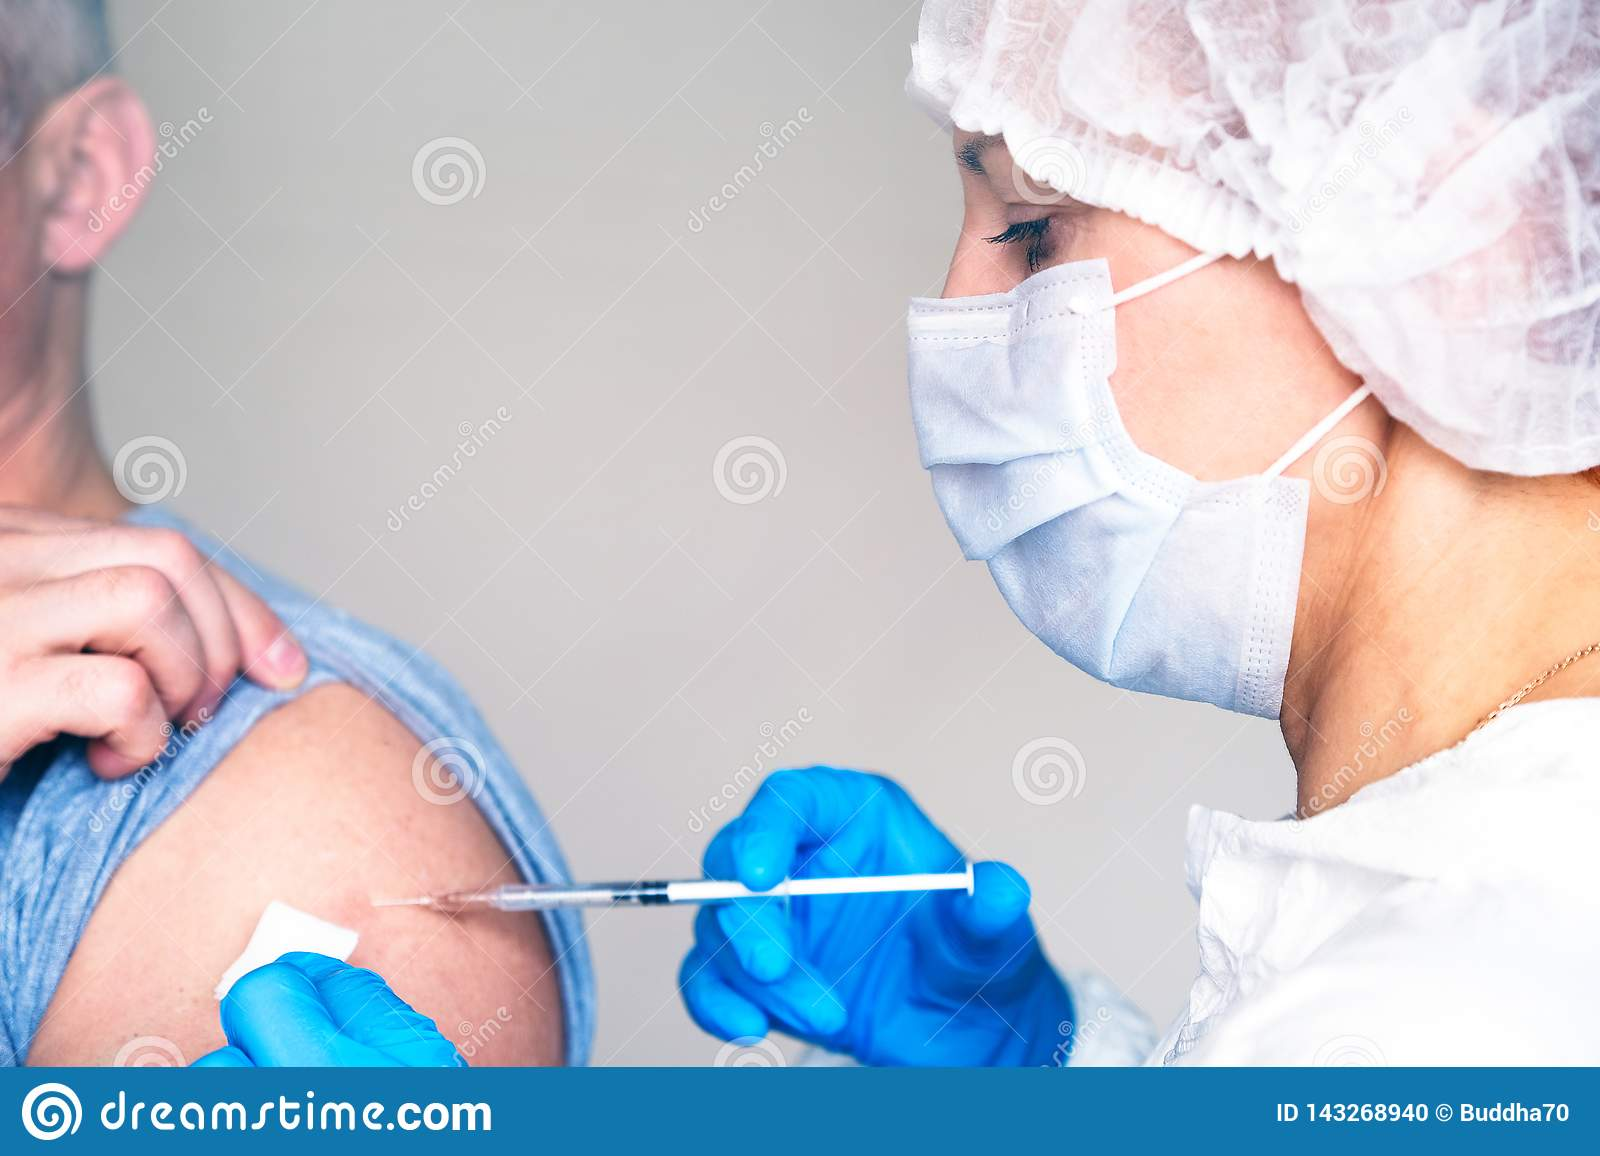mask: (901, 260, 1319, 726)
